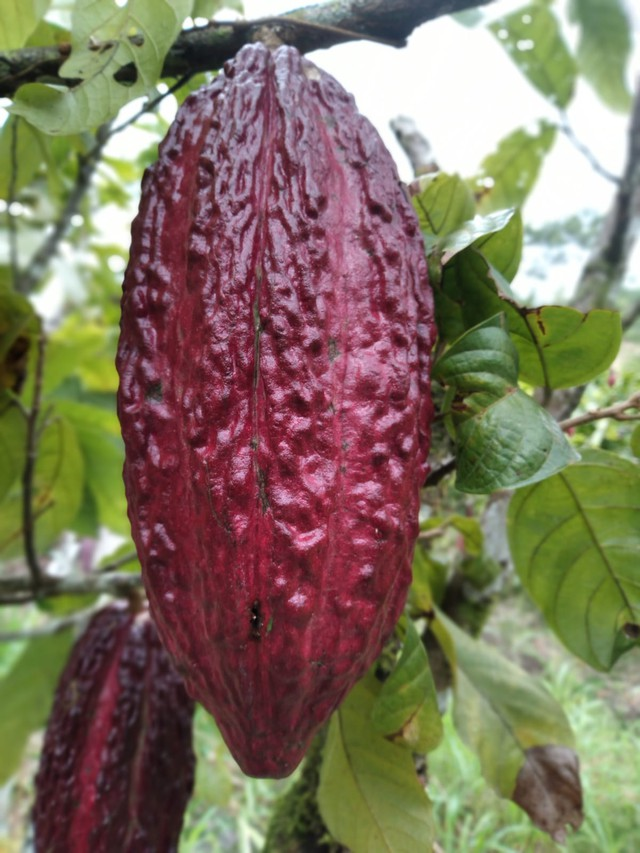Health: (35, 600, 195, 848)
carmenta foraseminis: (115, 33, 441, 782)
